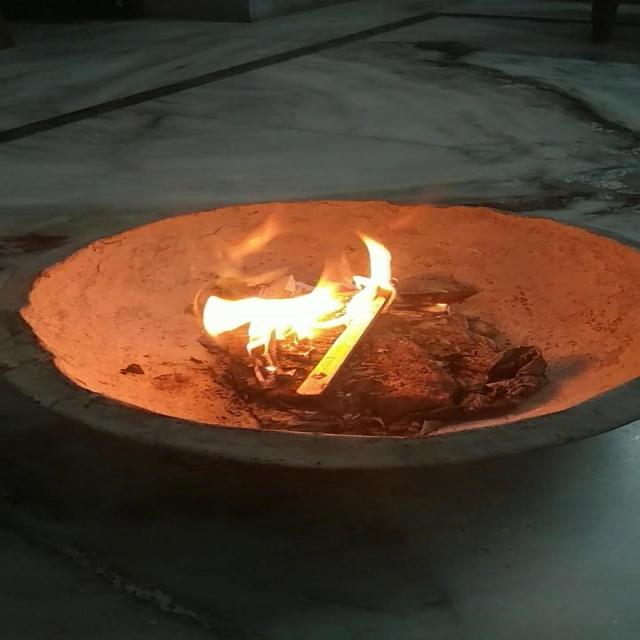fire: (163, 203, 422, 350)
